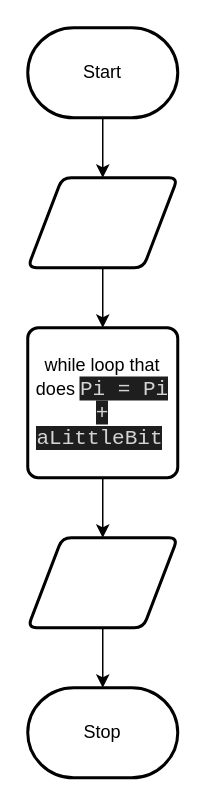
This 204x804 diagram has some shape labels left out. The shapes that lost their labels are listed below. From the top down, each one's centre as x and y in pixels, then its label:
(102,222): user inputs the disired number to calculate pi
(102,582): Output calculated pi with corisponding decimals
